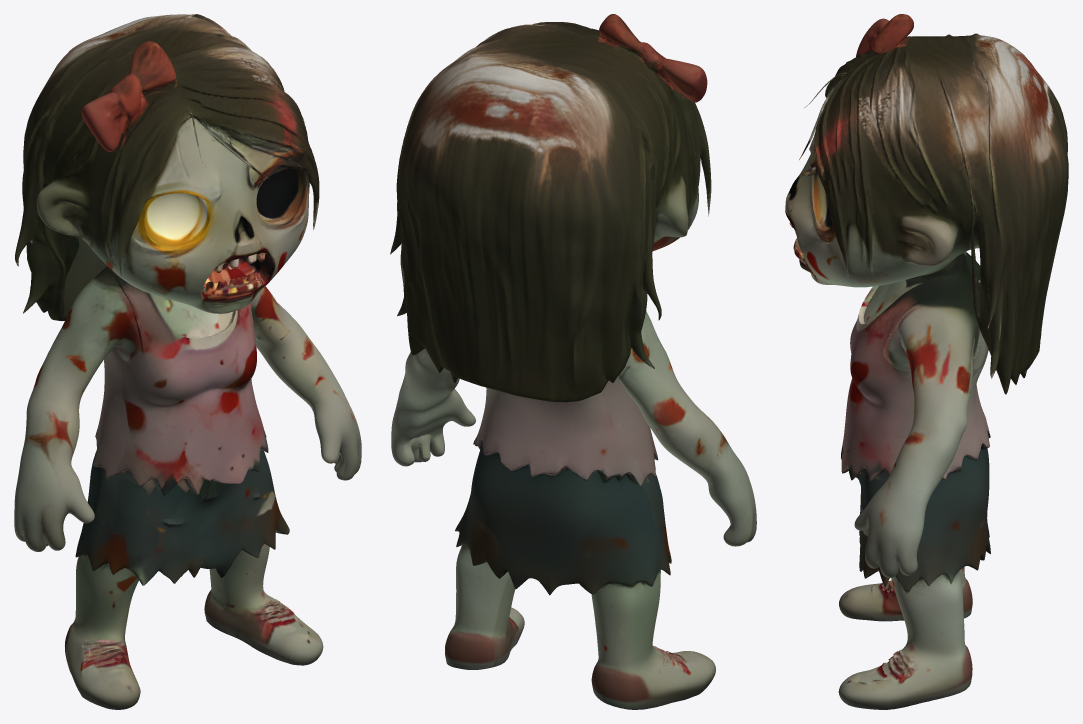
File: base_basic_pbr.fbx
The picture shows the model from 3 angles, left to right: view 1: azimuth 30°, elevation 25°; view 2: azimuth 150°, elevation 25°; view 3: azimuth 270°, elevation 25°; orthographic projection. The views are drawn at different scales.
Visible parts, largest first — view 1: model; view 2: model; view 3: model.
Boxes of the visible parts, x1,y1,x2,y2 form: model: (14, 14, 361, 709); model: (390, 14, 756, 709); model: (785, 14, 1068, 709).
Size of the model in its own units: 107 by 190 by 78.11.
Materials: 1 (1 with a texture image).
